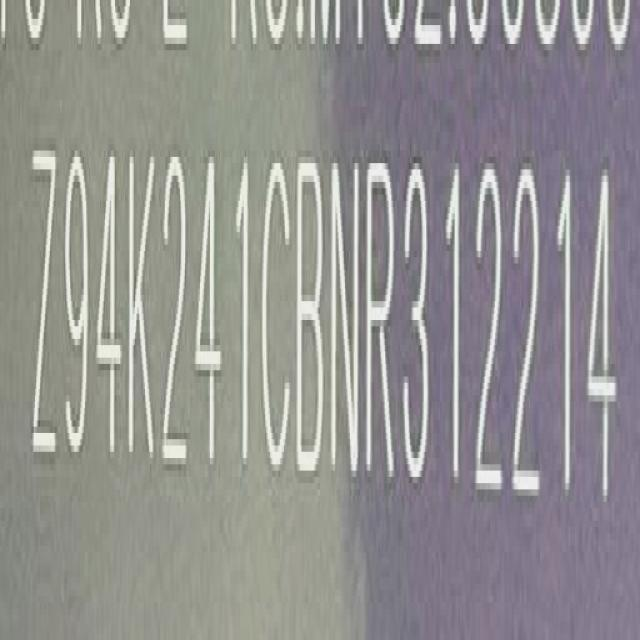1: (551, 162, 576, 514), (231, 152, 253, 480), (442, 161, 463, 492)
2: (512, 164, 545, 514), (472, 160, 502, 508), (163, 149, 193, 479)
3: (402, 165, 434, 488)
4: (588, 168, 622, 522), (96, 144, 124, 470), (198, 148, 225, 480)
9: (63, 148, 89, 472)
B: (297, 155, 327, 486)
C: (259, 156, 293, 478)
K: (130, 148, 160, 478)
N: (328, 155, 362, 485)
R: (367, 160, 400, 487)
Z: (30, 146, 59, 476)
